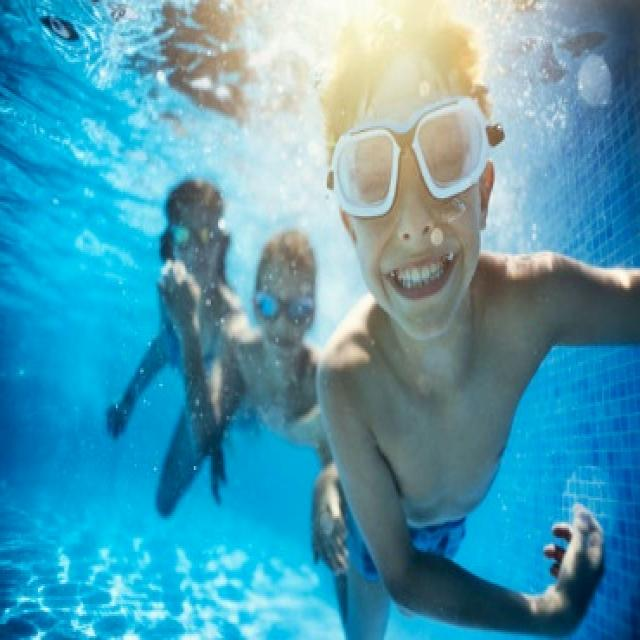child: (322, 36, 640, 634), (229, 212, 318, 451)
